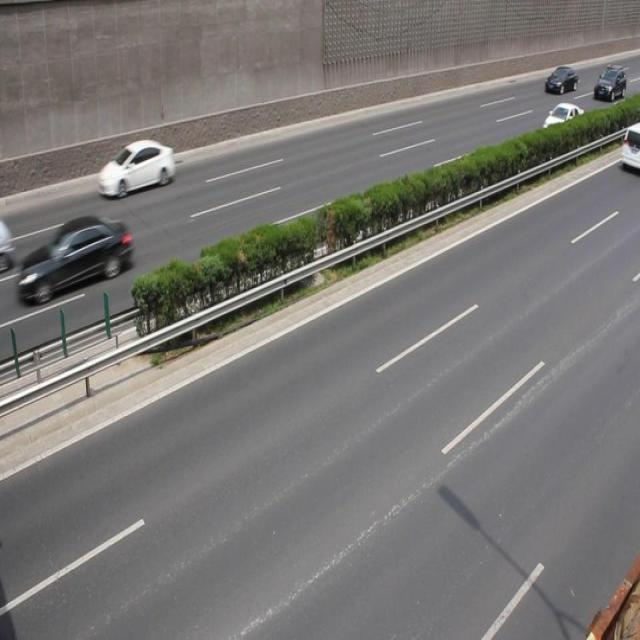car: (15, 216, 134, 303), (99, 138, 174, 197), (539, 102, 584, 148), (592, 66, 624, 101), (620, 120, 640, 172), (545, 64, 576, 96), (1, 218, 14, 276)
